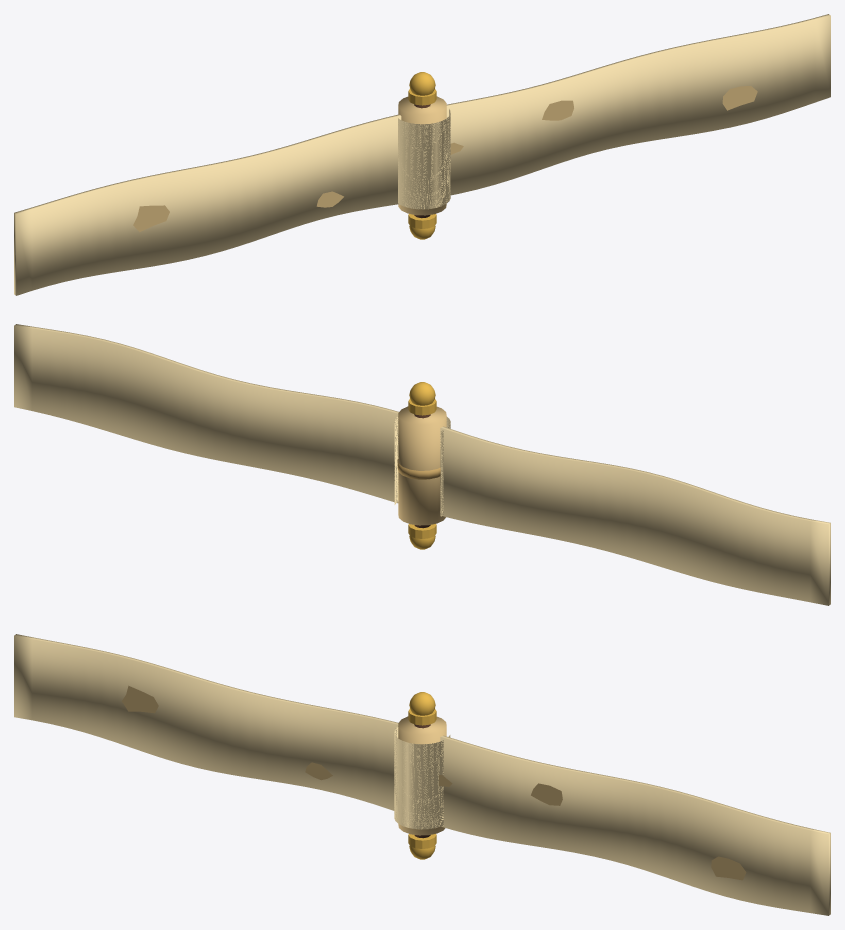
The model's file is scroll.glb.
The picture shows the model from 3 angles, top to bottom: view 1: azimuth 30°, elevation 25°; view 2: azimuth 150°, elevation 25°; view 3: azimuth 330°, elevation 25°; orthographic projection.
Parts seen in each view (by area): view 1: sheet_body, roll_lip.001, roll_lip, roll, nolines_sheet_stain_0, nolines_sheet_stain_3; view 2: sheet_body, roll; view 3: sheet_body, roll_lip, roll_lip.001, roll, nolines_sheet_stain_0, nolines_sheet_stain_3.
Boxes of the visible parts, x1,y1,x2,y2 form: sheet_body: [14, 14, 830, 295]; roll_lip.001: [398, 118, 436, 209]; roll_lip: [436, 109, 450, 207]; roll: [398, 96, 446, 215]; nolines_sheet_stain_0: [133, 205, 169, 232]; nolines_sheet_stain_3: [722, 86, 757, 110]; sheet_body: [14, 324, 830, 605]; roll: [398, 406, 446, 525]; sheet_body: [14, 634, 830, 915]; roll_lip: [408, 735, 450, 829]; roll_lip.001: [394, 727, 408, 827]; roll: [398, 716, 446, 835]; nolines_sheet_stain_0: [122, 685, 158, 713]; nolines_sheet_stain_3: [711, 856, 746, 880].
Size of the model in its own units: 10 by 1.94 by 0.565.
